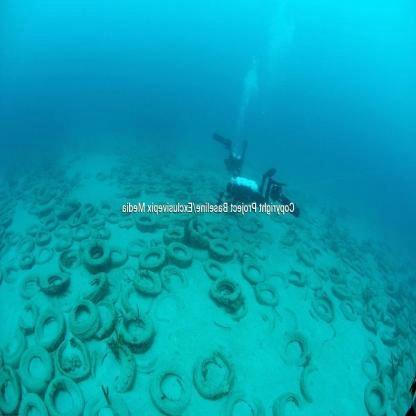tire: (92, 338, 134, 412), (191, 344, 235, 400), (146, 364, 193, 412), (16, 343, 62, 389), (43, 375, 86, 416), (29, 308, 66, 351), (274, 326, 312, 366), (118, 311, 160, 344), (81, 393, 139, 416), (66, 302, 102, 338), (212, 278, 245, 314), (270, 380, 302, 416), (161, 262, 196, 294), (222, 390, 264, 416), (3, 359, 22, 416), (296, 358, 320, 402), (132, 270, 168, 298), (13, 294, 39, 332), (81, 242, 115, 271), (360, 381, 388, 412), (2, 327, 24, 360), (18, 392, 48, 416), (249, 280, 278, 304), (242, 258, 270, 282), (127, 238, 156, 261), (208, 239, 240, 259), (141, 248, 167, 272), (106, 244, 132, 268), (360, 358, 378, 385), (168, 244, 194, 262), (313, 299, 333, 322), (206, 257, 223, 282), (64, 250, 84, 270), (340, 294, 356, 316), (288, 268, 304, 288)
